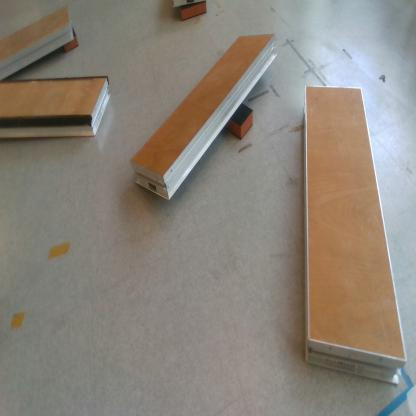Stairs: (306, 88, 408, 392), (131, 31, 280, 206), (1, 78, 115, 138), (1, 7, 76, 81)
